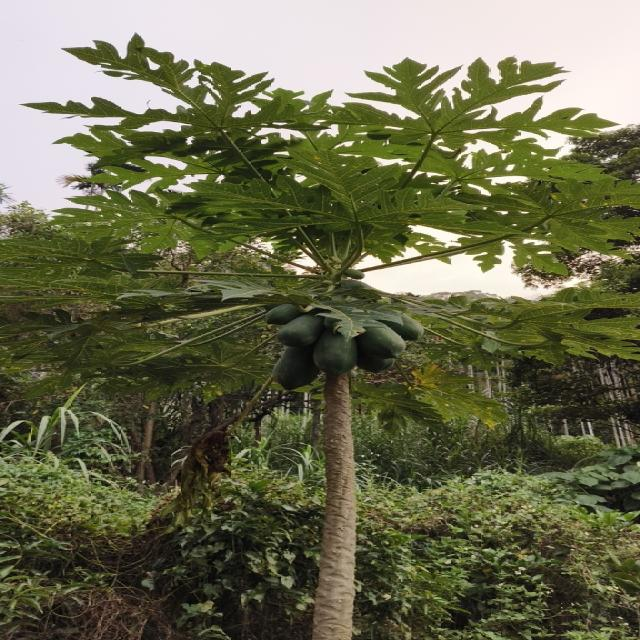Papaya-Tree: (49, 32, 626, 638)
